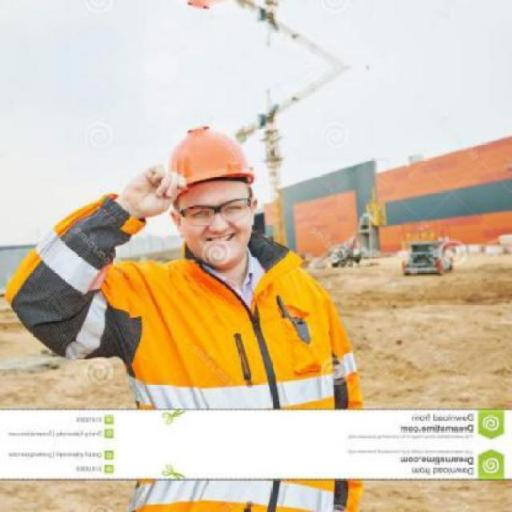helmet: (155, 120, 267, 204)
vest: (88, 247, 356, 407)
